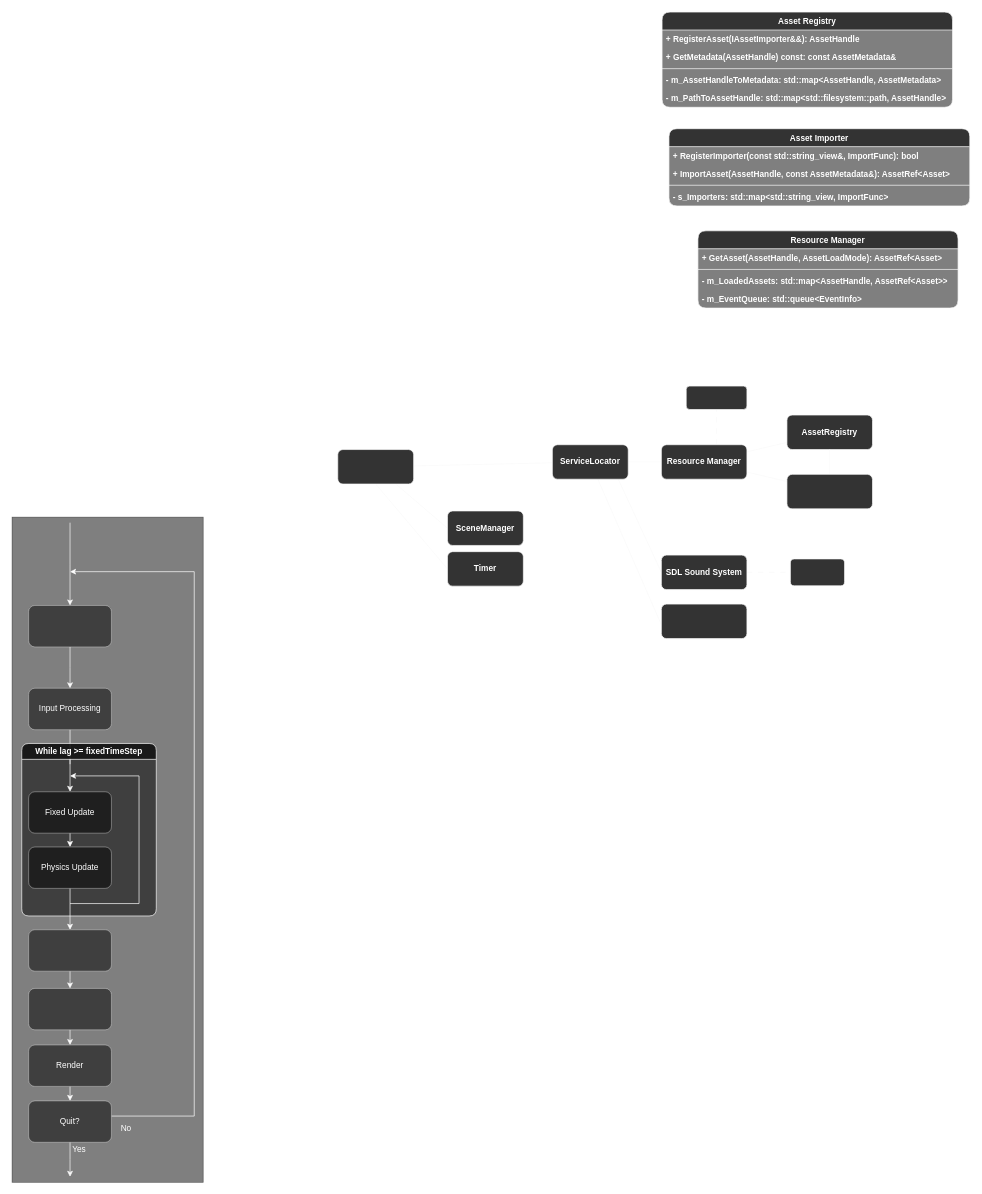
This 982x1194 diagram has some shape labels left out. The shapes that lost their labels are listed below. From the top down, each one's centre as x and y in pixels, then its label:
At point (716, 397): "Worker Thread".
At point (375, 466): "Application".
At point (829, 491): "AssetImporter".
At point (817, 572): "Sound Thread".
At point (69, 626): "Timer Update".
At point (704, 621): "Physics System".
At point (69, 950): "Update".
At point (69, 1009): "Cleanup".
